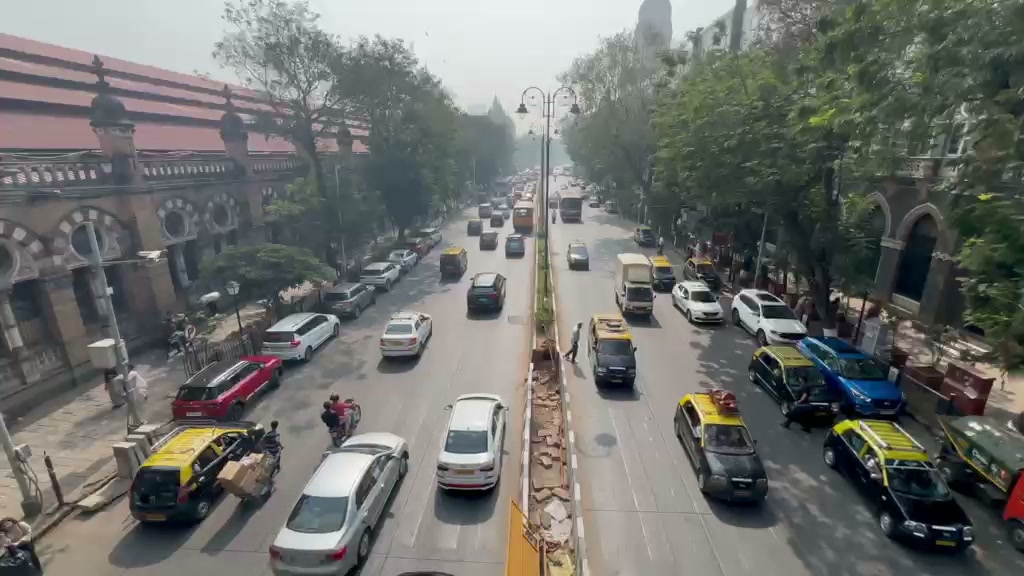bus: (512, 190, 537, 234)
car: (268, 431, 410, 575), (129, 423, 255, 525), (674, 390, 770, 507), (799, 334, 906, 419), (748, 340, 843, 429), (936, 414, 1024, 505), (171, 354, 283, 422), (434, 394, 508, 495), (213, 431, 282, 506), (258, 310, 340, 364), (732, 288, 808, 345), (591, 329, 638, 390), (379, 311, 433, 361), (318, 278, 377, 321), (671, 280, 724, 326), (1001, 466, 1024, 553), (466, 272, 507, 319), (359, 259, 403, 292), (651, 257, 677, 293), (387, 248, 420, 271), (633, 225, 660, 251), (567, 241, 590, 271), (504, 234, 524, 258)
motorcycle: (321, 398, 359, 449)
pedestrian: (125, 365, 149, 427)
truck: (822, 417, 975, 554), (936, 414, 1024, 506)
